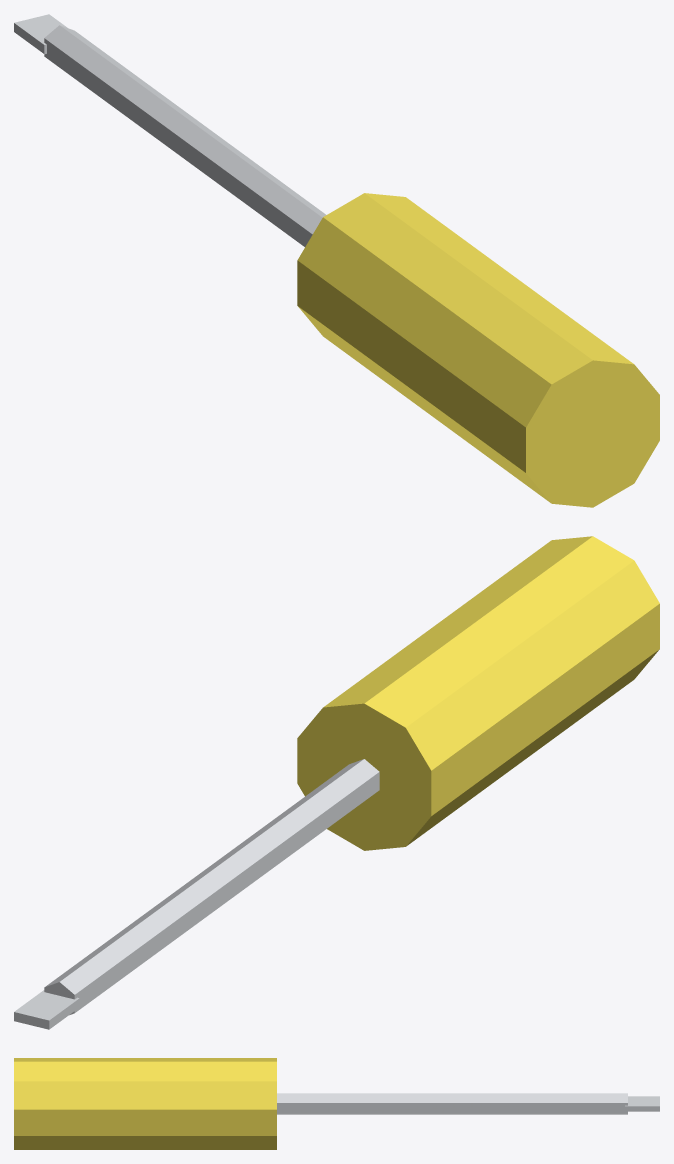
Rendered from screwdriver.glb.
The picture shows the model from 3 angles, top to bottom: view 1: azimuth 30°, elevation 25°; view 2: azimuth 150°, elevation 25°; view 3: azimuth 270°, elevation 25°; orthographic projection. The views are drawn at different scales.
Parts seen in each view (by area): view 1: screwdriver; view 2: screwdriver; view 3: screwdriver.
Boxes of the visible parts, box(x1,y1,x2,y2) form: screwdriver: box(14, 14, 659, 507); screwdriver: box(14, 536, 659, 1029); screwdriver: box(14, 1058, 659, 1149).
Size of the model in its own units: 0.0304 by 0.032 by 0.221.
